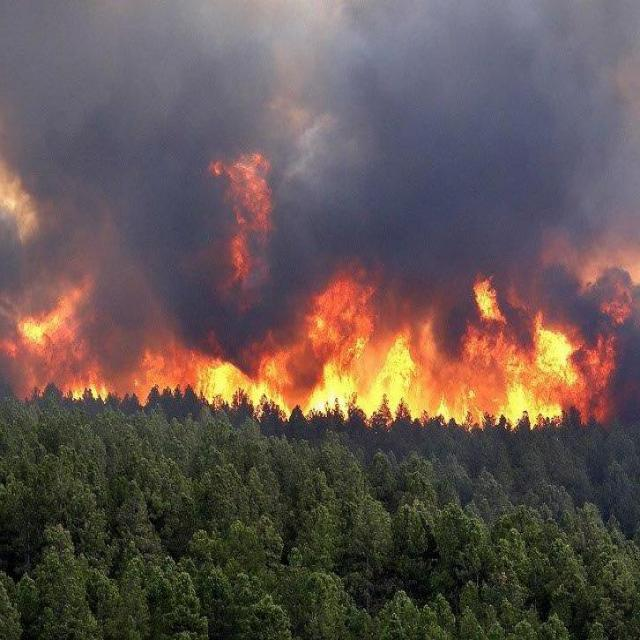Fire: (118, 262, 626, 432), (14, 266, 105, 408)
